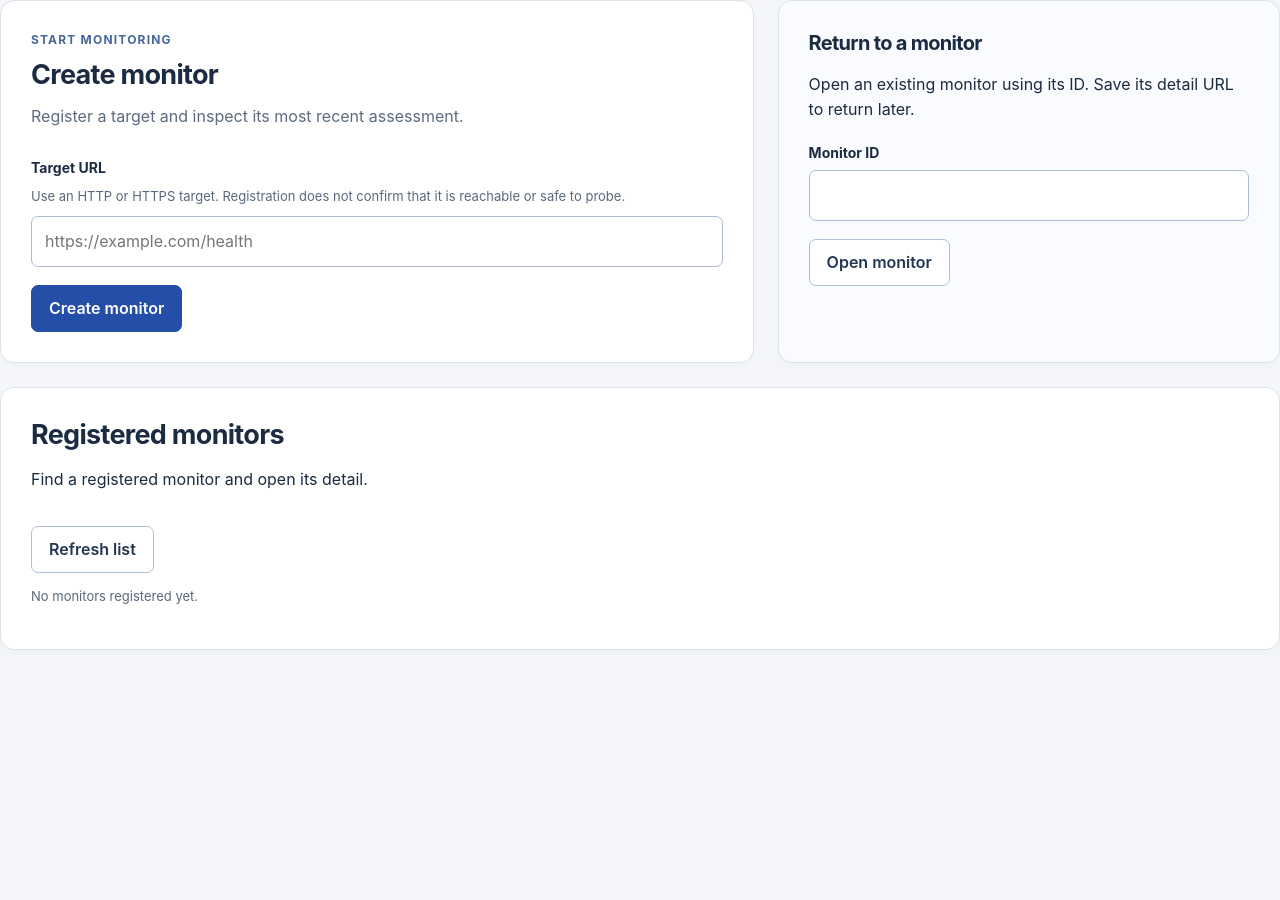
Scenario: provides an input error for invalid Monitor ID
Click the button "Open monitor".
click(879, 262)  # box left=809, top=239, right=950, bottom=286
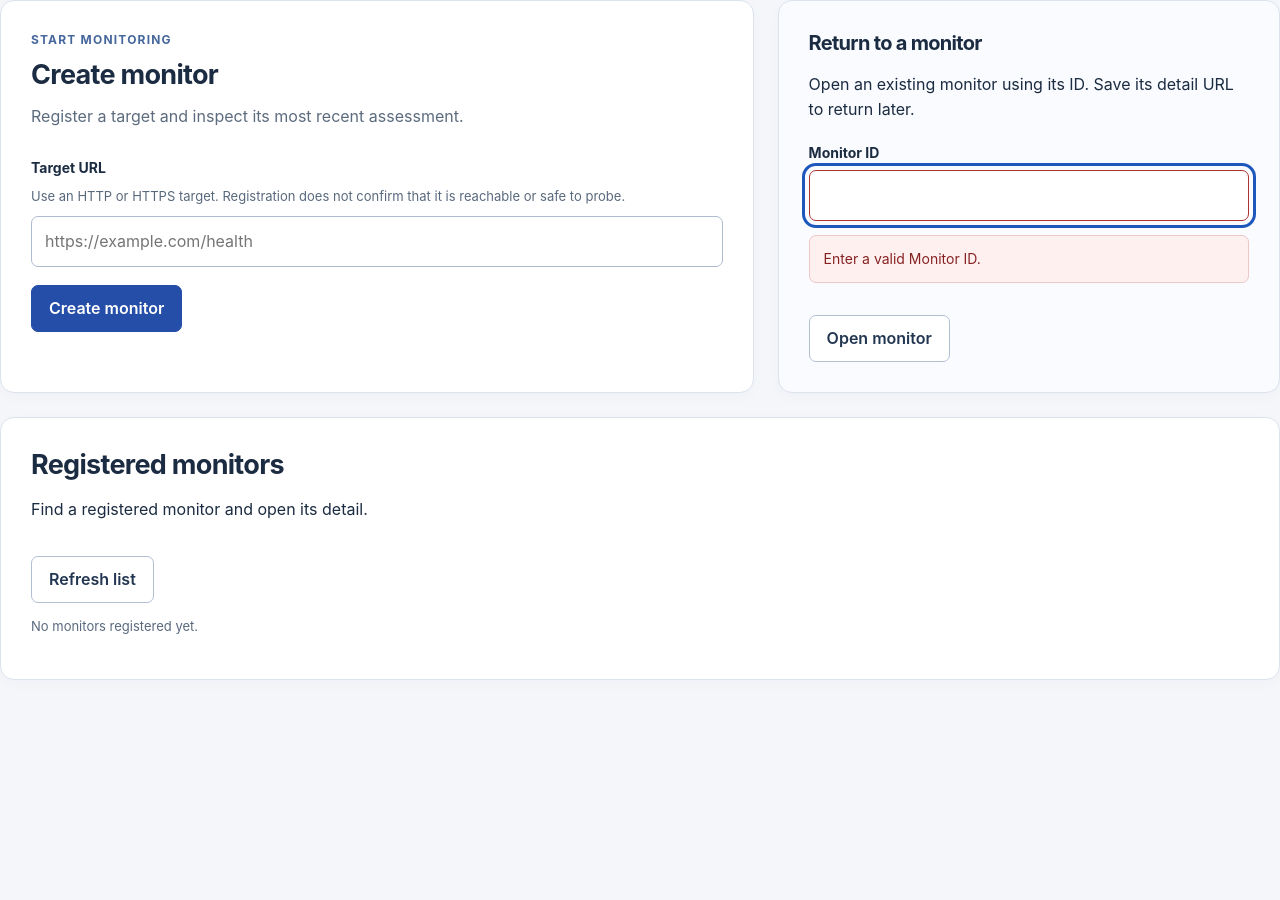
Check: the message shows "valid Monitor ID", box left=824, top=250, right=981, bottom=267
